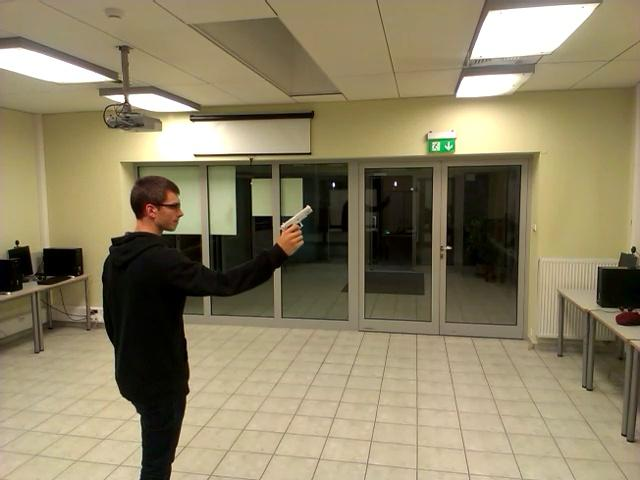gun: (260, 196, 318, 253)
